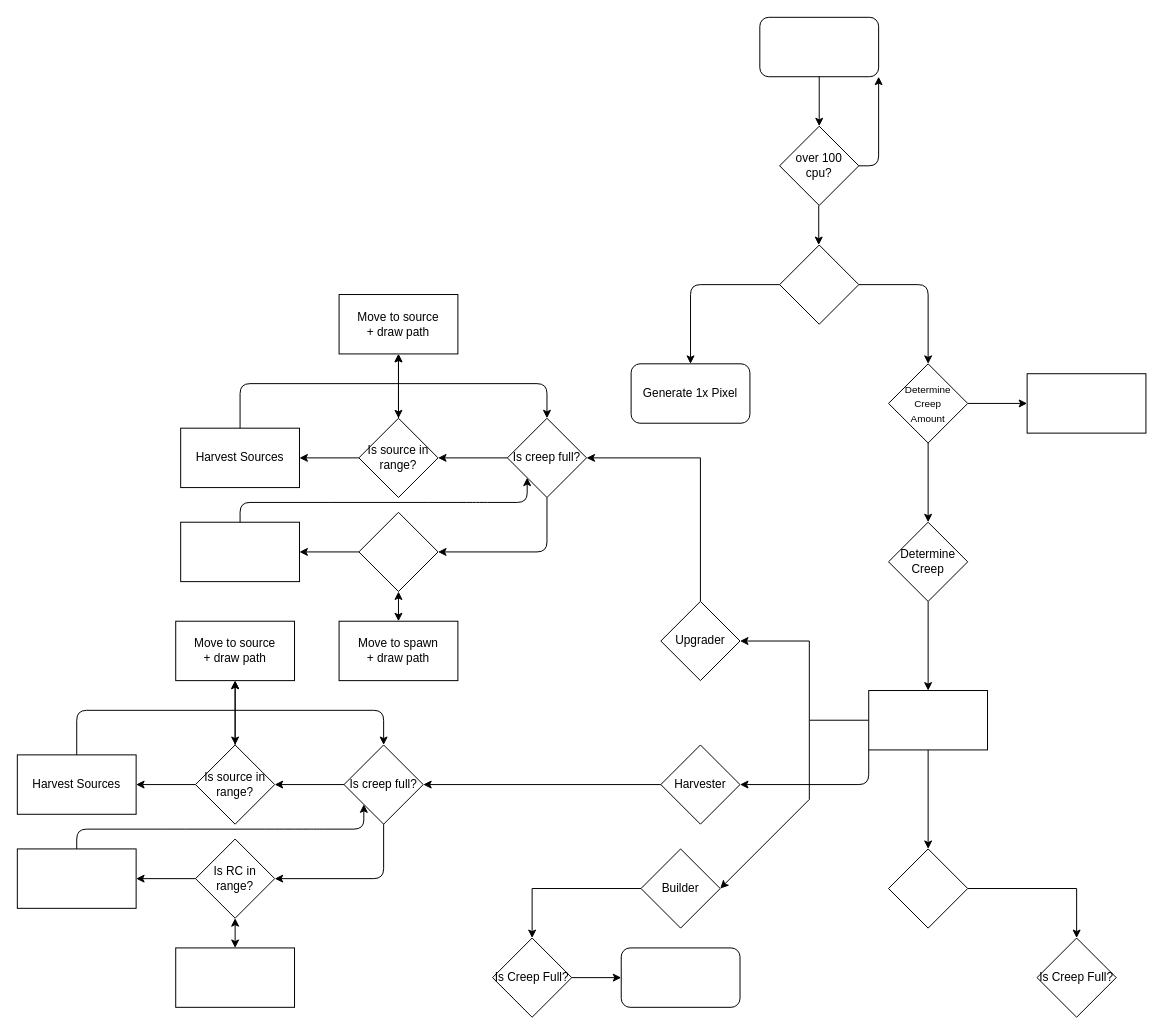
The diagram is 1163 pixels wide and 1035 high, and some of its shapes have lost their labels. The centre of each missing label's shape, as x and y in pixels:
"Assign Role" belongs at point (928, 720).
"BEGIN" belongs at point (819, 46).
"Deposit RC" belongs at point (76, 878).
"Deposit Sources" belongs at point (239, 551).
"Find Construction Site" belongs at point (680, 977).
"Is spawn in range?" belongs at point (398, 551).
"Move to RC + draw path" belongs at point (235, 977).
"over 10,000 cpu?" belongs at point (819, 284).
"Repairer" belongs at point (928, 888).
"Spawn Creep" belongs at point (1086, 403).
